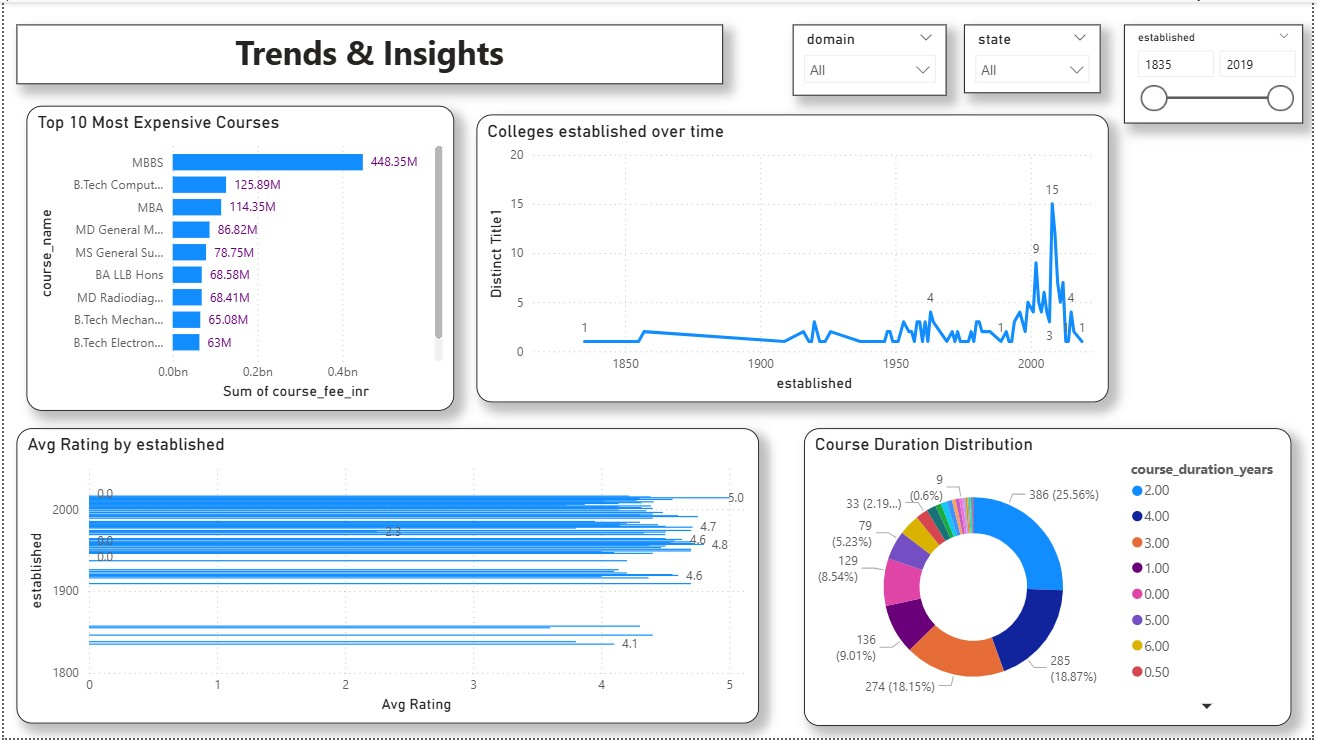

The dashboard page shown, as its layout file describes it:
{"tool":"powerbi","page":{"name":"Dashboard 3","canvas":[1280,720],"ordinal":15},"visuals":[{"type":"lineChart","title":"Colleges established over time","fields":{"Y":["careers360_colleges.Distinct Title1"],"Category":["careers360_colleges.established"]},"box":[462.2,110.1,618.8,281.3],"z":0},{"type":"barChart","fields":{"Y":["careers360_colleges.Avg Rating"],"Category":["careers360_colleges.established"]},"box":[12.2,417,726.4,288.6],"z":1000},{"type":"clusteredBarChart","title":"Top 10 Most Expensive Courses","fields":{"Category":["careers360_colleges.course_name","careers360_colleges.title"],"Y":["Sum(careers360_colleges.course_fee_inr)"]},"box":[22,101.5,418.2,298.4],"z":2000},{"type":"donutChart","title":"Course Duration Distribution","fields":{"Category":["careers360_colleges.course_duration_years"],"Y":["Count(careers360_colleges.course_name)"]},"box":[782.6,417,476.9,291],"z":3000},{"type":"textbox","box":[12.2,22,690.9,58.7],"z":4000},{"type":"slicer","fields":{"Values":["careers360_colleges.domain"]},"box":[771.6,22,150.4,69.7],"z":5000},{"type":"slicer","fields":{"Values":["careers360_colleges.state"]},"box":[939.1,22,133.3,67.3],"z":6000},{"type":"slicer","fields":{"Values":["careers360_colleges.established"]},"box":[1095.7,22,174.9,96.6],"z":7000}]}

Visuals, with their boxes in screenshot pixels (x1, y1, x2, y2), scaled from the page's 1280x720 canvas onto the 1317x747 screenshot:
"Colleges established over time" lineChart: rect(476, 114, 1112, 406)
barChart - careers360_colleges.Avg Rating x careers360_colleges.established: rect(13, 433, 760, 732)
"Top 10 Most Expensive Courses" clusteredBarChart: rect(23, 105, 453, 415)
"Course Duration Distribution" donutChart: rect(805, 433, 1296, 735)
textbox: rect(13, 23, 723, 84)
slicer - careers360_colleges.domain: rect(794, 23, 949, 95)
slicer - careers360_colleges.state: rect(966, 23, 1103, 93)
slicer - careers360_colleges.established: rect(1127, 23, 1307, 123)
